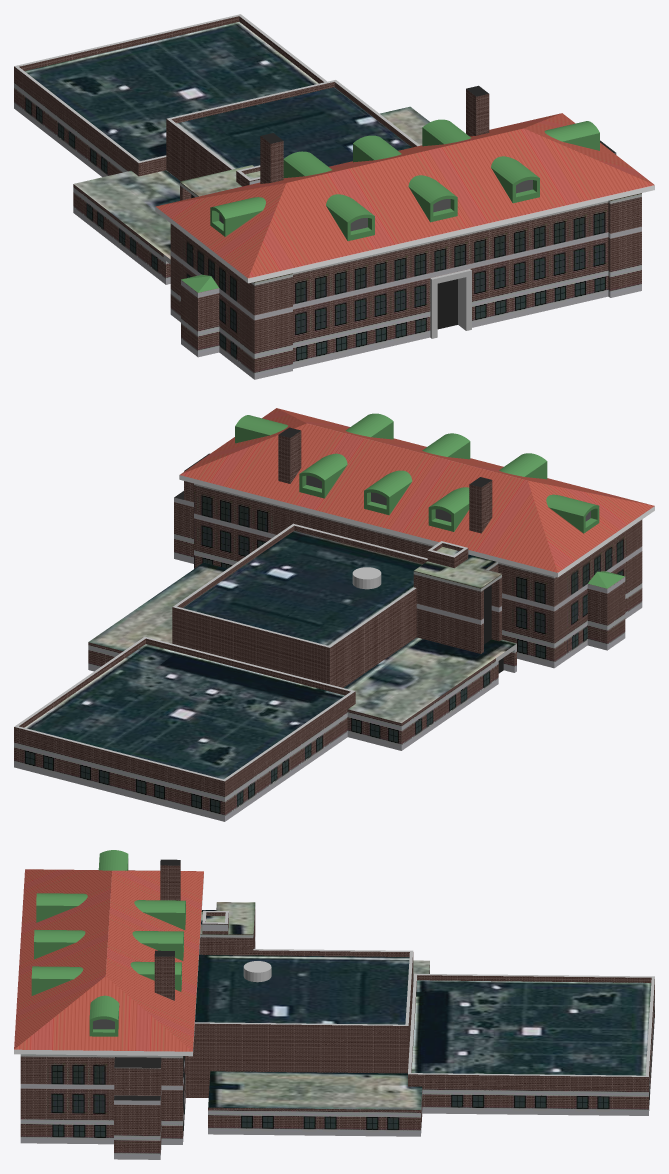
The model's file is FWLR.fbx.
The picture shows the model from 3 angles, top to bottom: view 1: azimuth 30°, elevation 25°; view 2: azimuth 150°, elevation 25°; view 3: azimuth 270°, elevation 25°; orthographic projection. The views are drawn at different scales.
Parts seen in each view (by area): view 1: skpE3BA1, Component2, Component3, Component4, Component1, Component8, Component6, Component5, Component7; view 2: skpE3BA1, Component6, Component7, Component5, Component1, Component8, Component3, Component2, Component4; view 3: skpE3BA1, Component8, Component4, Component5, Component3, Component2, Component7, Component1, Component6.
Boxes of the visible parts, x1,y1,x2,y2 form: skpE3BA1: (14, 14, 654, 379); Component2: (408, 175, 457, 222); Component3: (326, 194, 374, 241); Component4: (491, 156, 539, 203); Component1: (210, 197, 265, 236); Component8: (544, 121, 599, 150); Component6: (422, 119, 470, 146); Component5: (283, 151, 331, 177); Component7: (353, 135, 401, 162); skpE3BA1: (14, 408, 654, 821); Component6: (299, 453, 347, 498); Component7: (364, 470, 412, 515); Component5: (428, 487, 469, 531); Component1: (546, 494, 599, 533); Component8: (235, 415, 287, 443); Component3: (499, 453, 547, 479); Component2: (422, 433, 470, 459); Component4: (345, 413, 393, 439); skpE3BA1: (14, 859, 654, 1159); Component8: (89, 995, 119, 1036); Component4: (31, 966, 83, 995); Component5: (134, 900, 185, 929); Component3: (36, 893, 87, 922); Component2: (34, 929, 85, 959); Component7: (132, 931, 183, 960); Component1: (98, 850, 128, 870); Component6: (130, 961, 181, 991).
Bounding box in the file's own units: 1709 × 610 × 2348.
